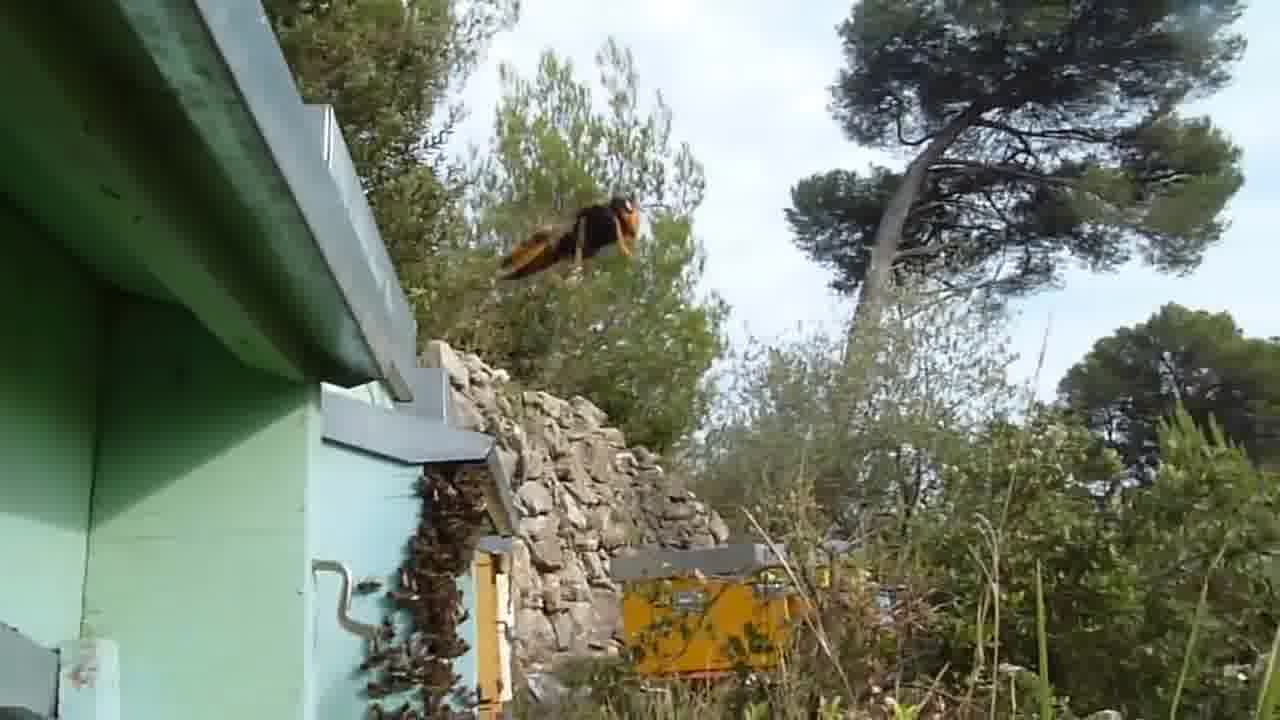bee: (407, 473, 493, 568), (354, 650, 469, 720), (376, 571, 467, 637)
hornet: (490, 185, 654, 284)
